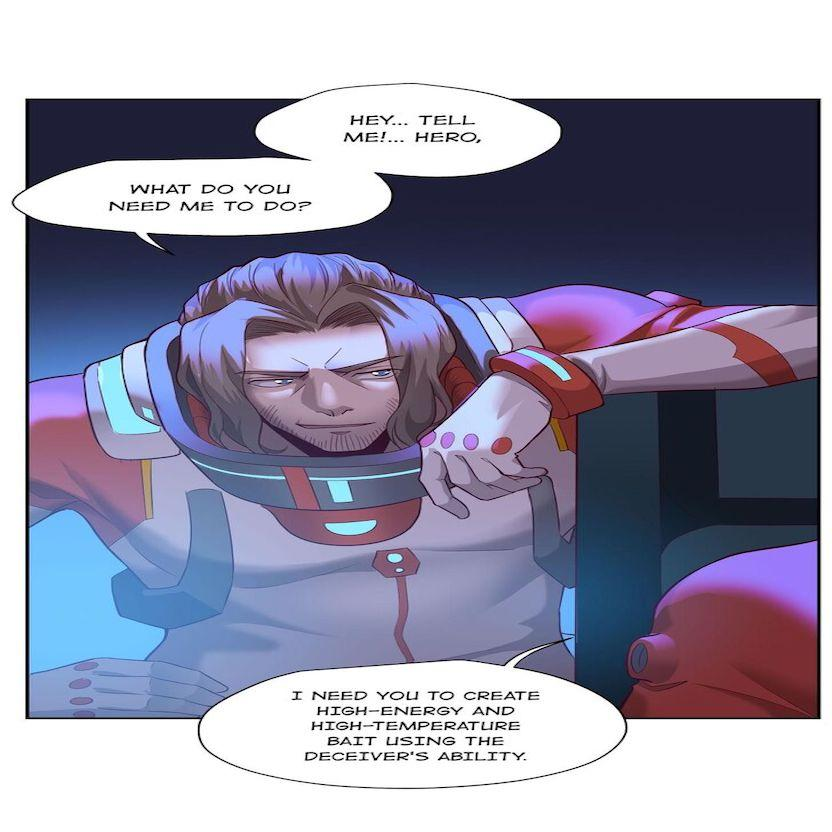Bubble: (196, 656, 629, 794), (11, 172, 395, 239), (252, 79, 565, 160)
